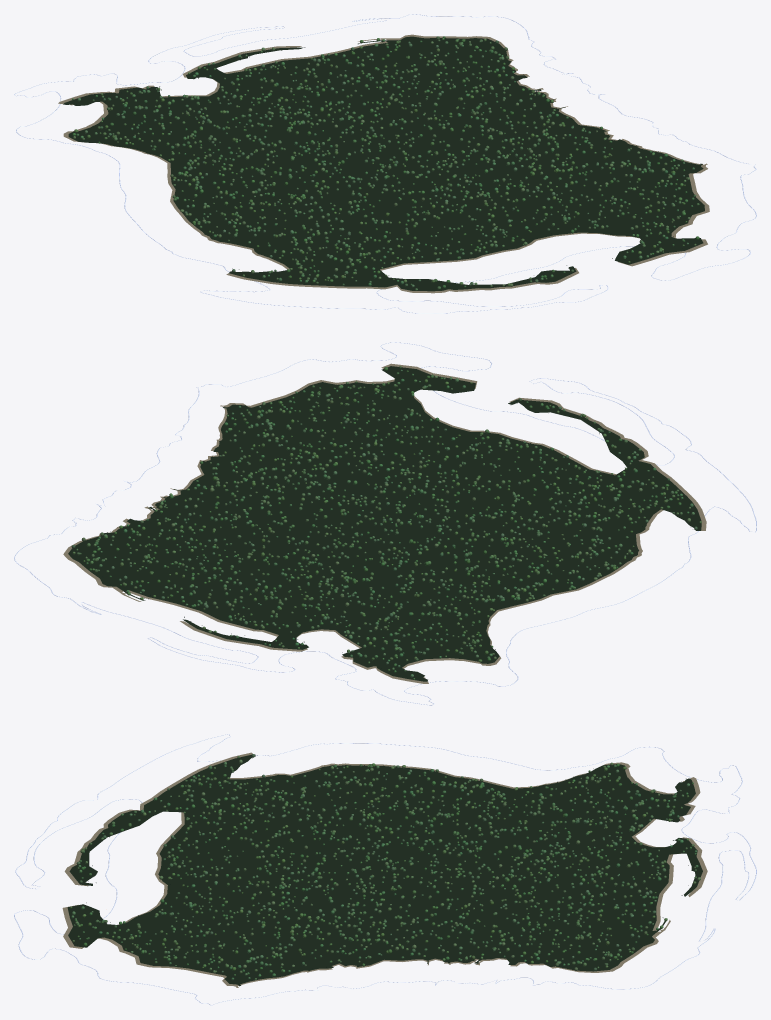
File: island_sentinel.glb
3 views of the same model, one above another, from view 1: azimuth 30°, elevation 25°; view 2: azimuth 150°, elevation 25°; view 3: azimuth 270°, elevation 25° (orthographic). The views are drawn at different scales.
Parts seen in each view (by area): view 1: ground_1, canopy, sand_0, reef_foam_282; view 2: ground_1, canopy, sand_0, reef_foam_282; view 3: ground_1, canopy, sand_0, reef_foam_282.
Part boxes in pixels (x1=…): ground_1: x1=63, y1=36, x2=704, y2=291; canopy: x1=72, y1=36, x2=699, y2=290; sand_0: x1=58, y1=34, x2=709, y2=293; reef_foam_282: x1=14, y1=14, x2=756, y2=313; ground_1: x1=68, y1=366, x2=701, y2=681; canopy: x1=71, y1=366, x2=701, y2=679; sand_0: x1=63, y1=363, x2=706, y2=683; reef_foam_282: x1=14, y1=342, x2=756, y2=705; ground_1: x1=67, y1=754, x2=702, y2=986; canopy: x1=70, y1=754, x2=700, y2=980; sand_0: x1=62, y1=752, x2=707, y2=987; reef_foam_282: x1=14, y1=734, x2=756, y2=1005.
Size of the model in its own units: 9206 by 84.05 by 10644.
